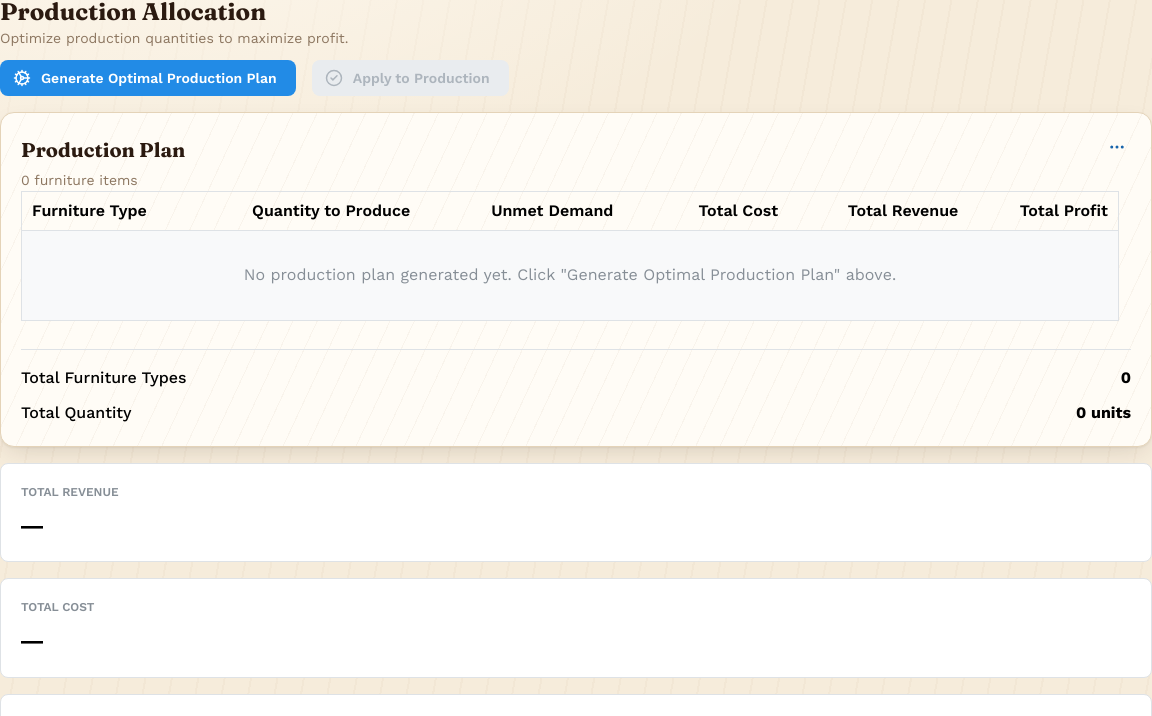
Test case: ProductionAllocationPage generate mode modal › opens the modal instead of generating immediately, with Resource-Based selected by default
Step 1. Click the button "Generate Optimal Production Plan" → x=148, y=78, box [0, 60, 296, 96]
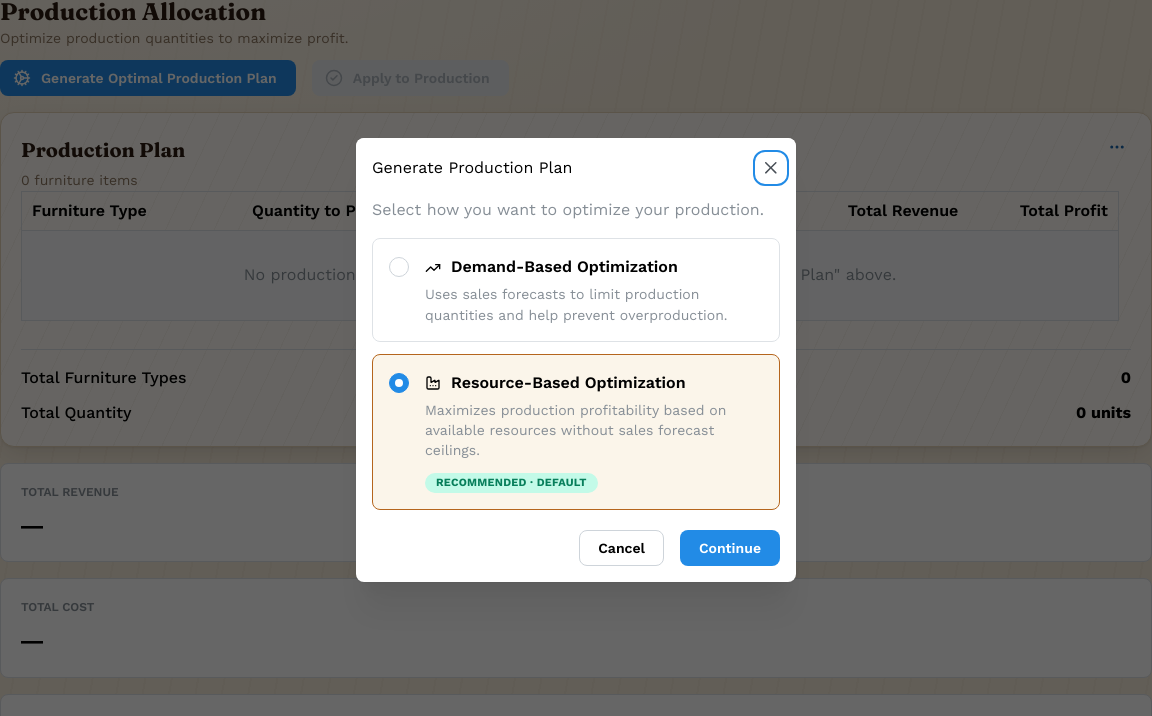
Now the heading "Generate Production Plan" is shown, box [372, 160, 572, 176]
Now the radio button labelled "Resource-Based Optimization" is checked, box [372, 354, 780, 510]
Now the radio button labelled "Demand-Based Optimization" is not checked, box [372, 238, 780, 342]
